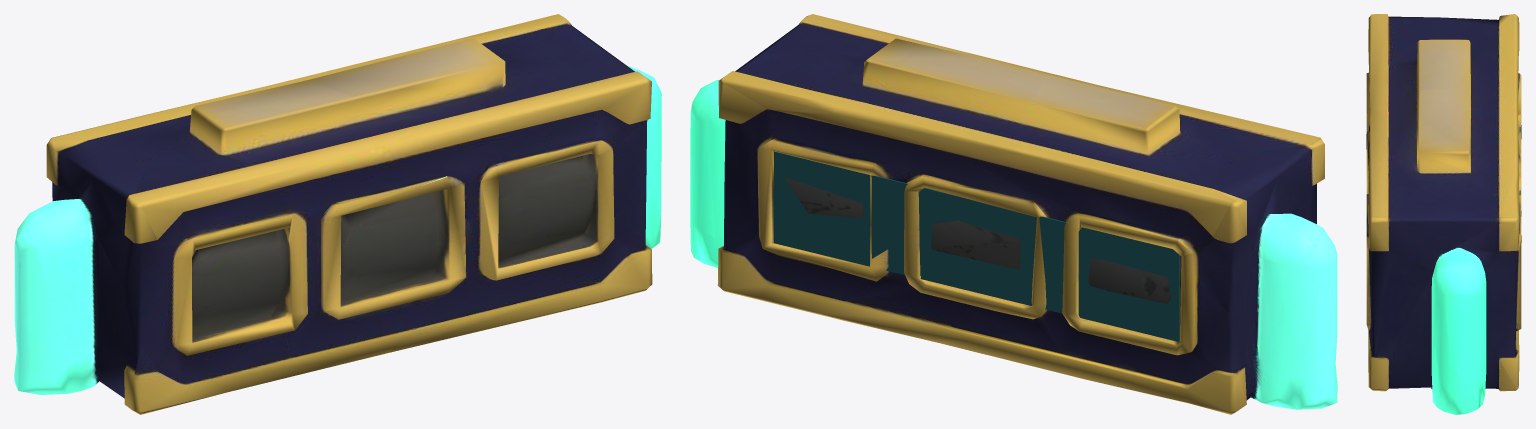
Rendered from slot_tripo.glb.
The picture shows the model from 3 angles, left to right: view 1: azimuth 30°, elevation 25°; view 2: azimuth 150°, elevation 25°; view 3: azimuth 270°, elevation 25°; orthographic projection. The views are drawn at different scales.
Visible parts, largest first — view 1: slot_tripo; view 2: slot_tripo, slot_reel_glass; view 3: slot_tripo.
Part boxes in pixels (x1,y1,x2,y2): slot_tripo: (14,14,661,414); slot_tripo: (690,14,1337,414); slot_reel_glass: (774,151,1179,341); slot_tripo: (1366,14,1521,414).
Bounding box in the file's own units: 2.24 × 0.795 × 0.574.
2 materials, 1 textured.
